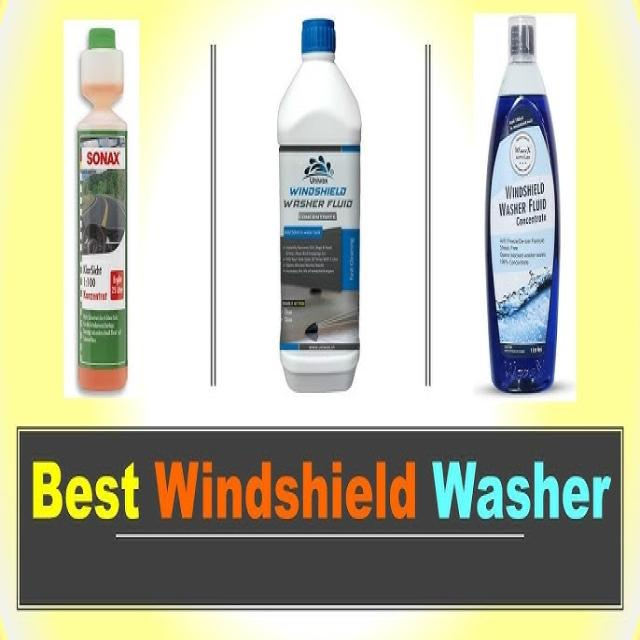winwinshield_washer: (275, 18, 363, 394), (487, 7, 562, 396), (73, 22, 132, 397)
